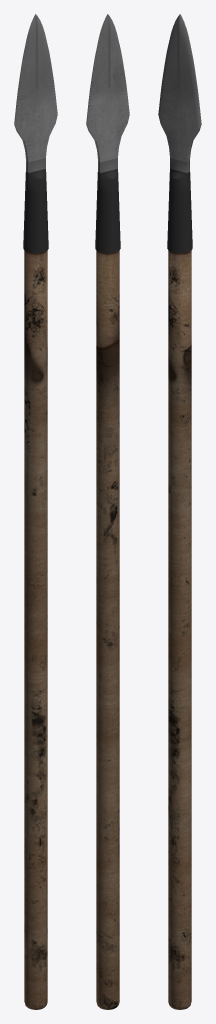
The model's file is weapon_spears.fbx.
3 views of the same model, side by side, from view 1: azimuth 30°, elevation 25°; view 2: azimuth 210°, elevation 25°; view 3: azimuth 330°, elevation 25° (orthographic).
Visible parts, largest first — view 1: weapon_spears; view 2: weapon_spears; view 3: weapon_spears.
Boxes of the visible parts, x1=… form: weapon_spears: x1=14, y1=14, x2=57, y2=1009; weapon_spears: x1=86, y1=14, x2=129, y2=1009; weapon_spears: x1=158, y1=14, x2=201, y2=1009.
Size of the model in its own units: 10.41 by 229 by 5.26.
Materials: 1 (1 with a texture image).
